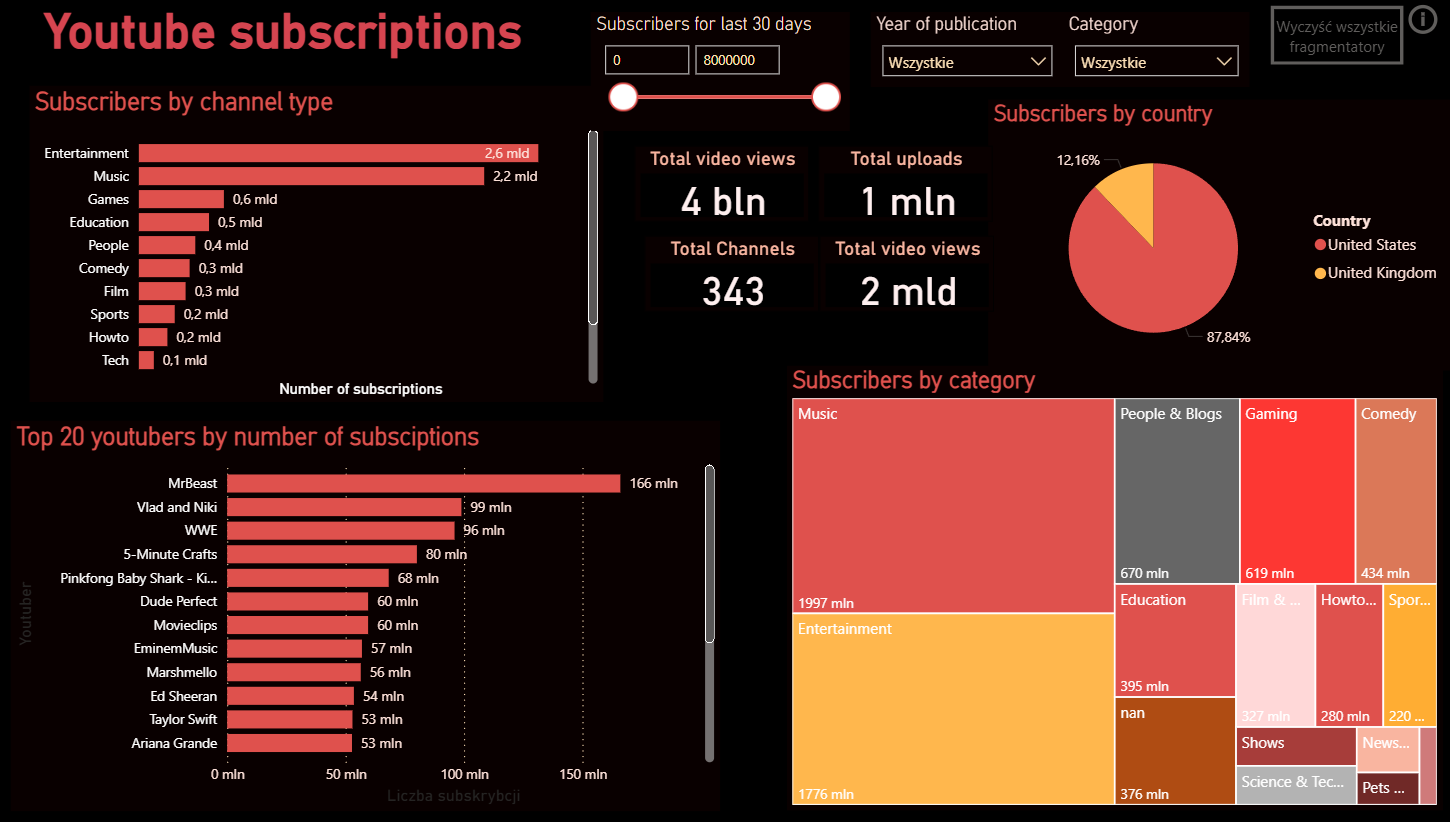

This screenshot's page, from the dashboard's own definition file:
{"tool":"powerbi","page":{"name":"subscribers","canvas":[1289,732],"ordinal":0},"visuals":[{"type":"clusteredBarChart","title":"Subscribers by channel type","fields":{"Category":["youtubers.channel_type"],"Y":["Sum(youtubers.subscribers)"]},"box":[29.1,79.1,508.1,280.2],"z":0},{"type":"pieChart","title":"Subscribers by country","fields":{"Category":["youtubers.Country"],"Y":["Divide(Sum(youtubers.subscribers), ScopedEval(Sum(youtubers.subscribers), []))"]},"box":[877.6,90.7,411.7,240.1],"z":1000},{"type":"clusteredBarChart","title":"Top 20 youtubers by number of subsciptions","fields":{"Category":["youtubers.Youtuber"],"Y":["Sum(youtubers.subscribers)"]},"box":[11.6,375.6,627.9,345.3],"z":2000},{"type":"textbox","box":[0,0,505.8,59.3],"z":3000},{"type":"slicer","title":"Year of publication","fields":{"Values":["youtubers.Date"]},"box":[773.3,12.8,170.9,66.3],"z":4000},{"type":"slicer","title":"Subscribers for last 30 days","fields":{"Values":["youtubers.subscribers_for_last_30_days"]},"box":[525.6,12.8,229.1,104.7],"z":5000},{"type":"slicer","title":"Category","fields":{"Values":["youtubers.category"]},"box":[944.2,12.8,165.1,66.3],"z":6000},{"type":"treemap","title":"Subscribers by category","fields":{"Group":["youtubers.category"],"Values":["Sum(youtubers.subscribers)"]},"box":[699.8,326.6,580.4,393.8],"z":7000},{"type":"actionButton","box":[1245.4,0,34.9,39.5],"z":8000},{"type":"actionButton","box":[1127.9,8.1,117.4,52.3],"z":9000},{"type":"cardVisual","title":"Total video views","fields":{"Data":["Sum(youtubers.video views)"]},"box":[564,131.4,154.7,67.4],"z":10000},{"type":"cardVisual","title":"Total uploads","fields":{"Data":["Sum(youtubers.uploads)"]},"box":[726.7,131.4,154.7,67.4],"z":11000},{"type":"cardVisual","title":"Total Channels","fields":{"Data":["CountNonNull(youtubers.Youtuber)"]},"box":[573.3,211.6,154.7,67.4],"z":12000},{"type":"cardVisual","title":"Total video views","fields":{"Data":["Sum(youtubers.highest_yearly_earnings)"]},"box":[727.9,211.6,154.7,67.4],"z":13000}]}

Visuals, with their boxes in screenshot pixels (x1, y1, x2, y2), scaled from the page's 1289x732 canvas onto the 1450x822 screenshot:
"Subscribers by channel type" clusteredBarChart: <bbox>33, 89, 604, 403</bbox>
"Subscribers by country" pieChart: <bbox>987, 102, 1449, 371</bbox>
"Top 20 youtubers by number of subsciptions" clusteredBarChart: <bbox>13, 422, 719, 810</bbox>
textbox: <bbox>0, 0, 569, 67</bbox>
"Year of publication" slicer: <bbox>870, 14, 1062, 89</bbox>
"Subscribers for last 30 days" slicer: <bbox>591, 14, 849, 132</bbox>
"Category" slicer: <bbox>1062, 14, 1248, 89</bbox>
"Subscribers by category" treemap: <bbox>787, 367, 1440, 809</bbox>
actionButton: <bbox>1401, 0, 1440, 44</bbox>
actionButton: <bbox>1269, 9, 1401, 68</bbox>
"Total video views" cardVisual: <bbox>634, 148, 808, 223</bbox>
"Total uploads" cardVisual: <bbox>817, 148, 991, 223</bbox>
"Total Channels" cardVisual: <bbox>645, 238, 819, 313</bbox>
"Total video views" cardVisual: <bbox>819, 238, 993, 313</bbox>
